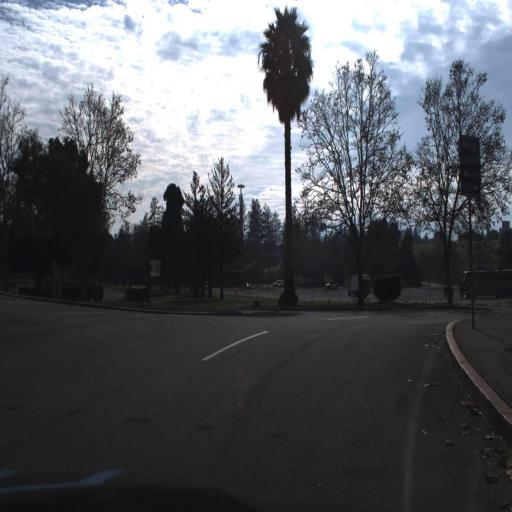car: (317, 274, 338, 293)
truck: (460, 264, 511, 304), (347, 270, 373, 297)
